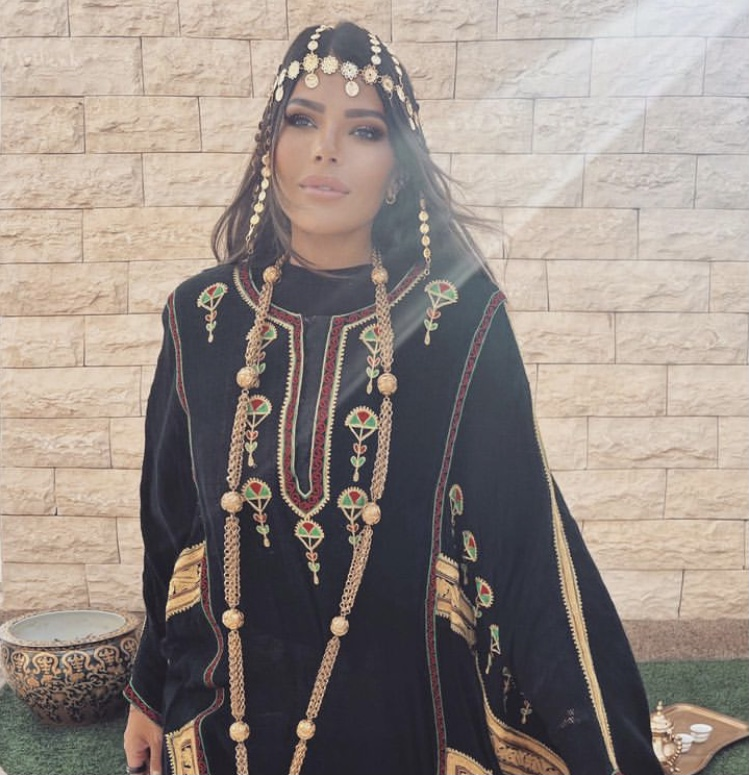Saudi_Founding_Day: (119, 18, 667, 775)
